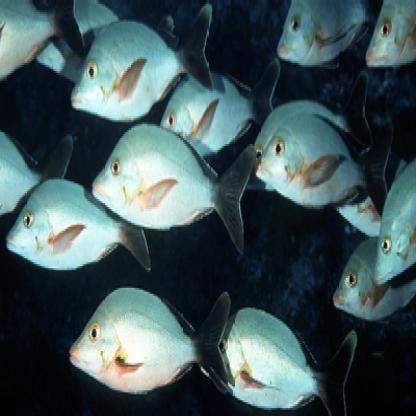Lutjanidae -Snappers-: (89, 115, 260, 277), (62, 281, 238, 397), (7, 165, 156, 289), (67, 1, 214, 120), (259, 106, 397, 232)
